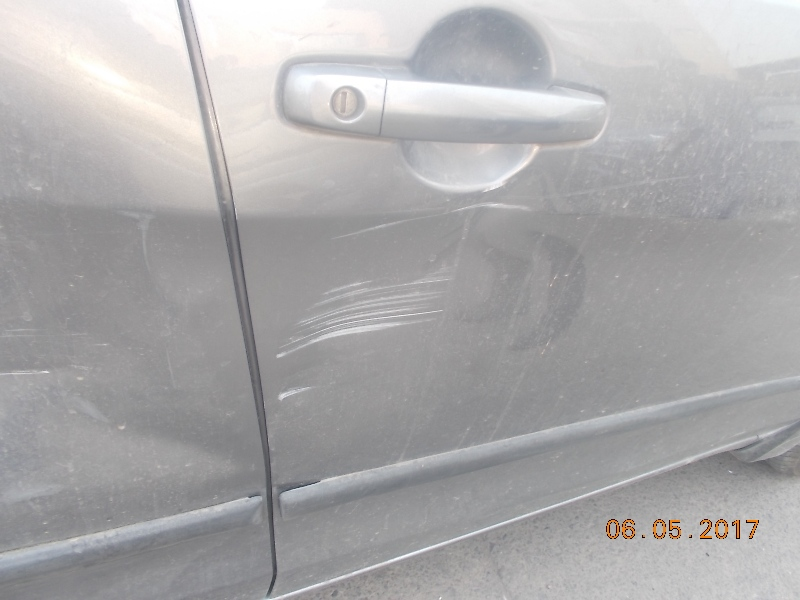Scratch_or_spot: (297, 264, 443, 365)
